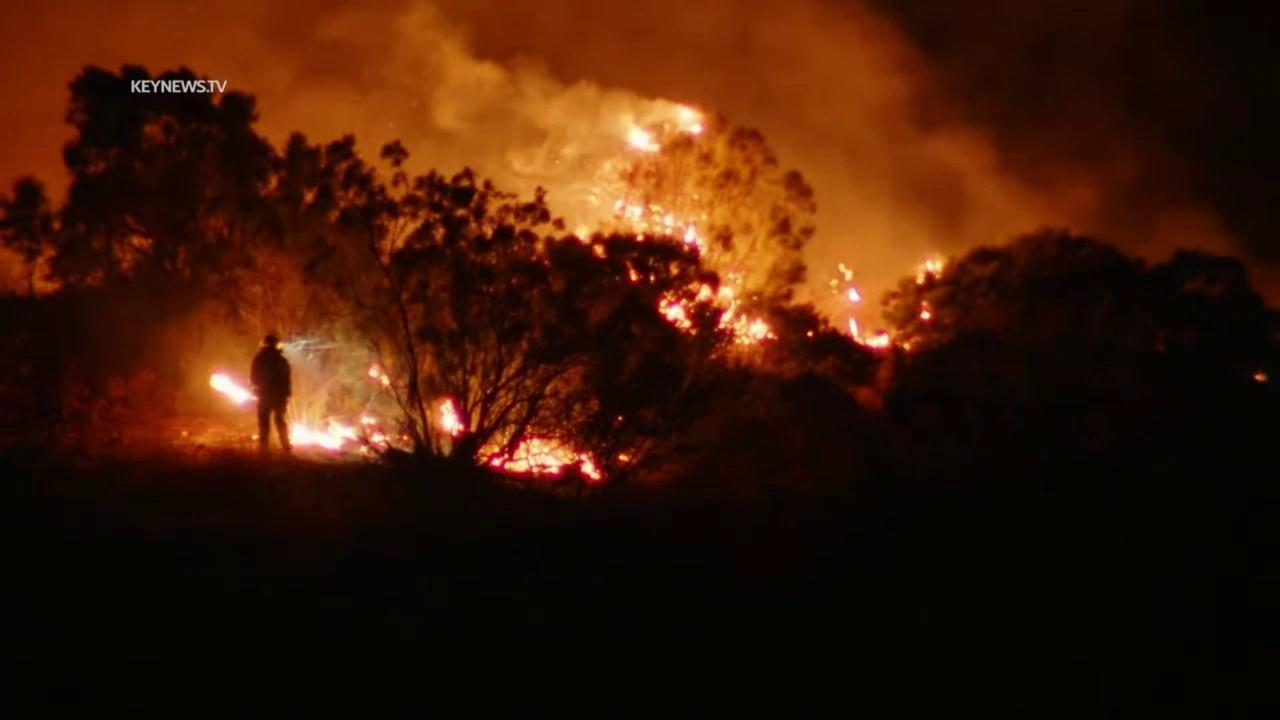fire: (589, 199, 780, 343), (284, 415, 393, 456), (488, 435, 567, 474), (209, 371, 260, 406), (824, 263, 863, 304), (846, 317, 891, 349), (437, 397, 467, 438), (625, 122, 661, 152), (914, 256, 946, 286), (577, 449, 605, 481), (677, 104, 703, 138), (367, 363, 394, 387), (918, 300, 934, 323), (616, 451, 634, 463)
smoke: (0, 0, 1280, 333)
